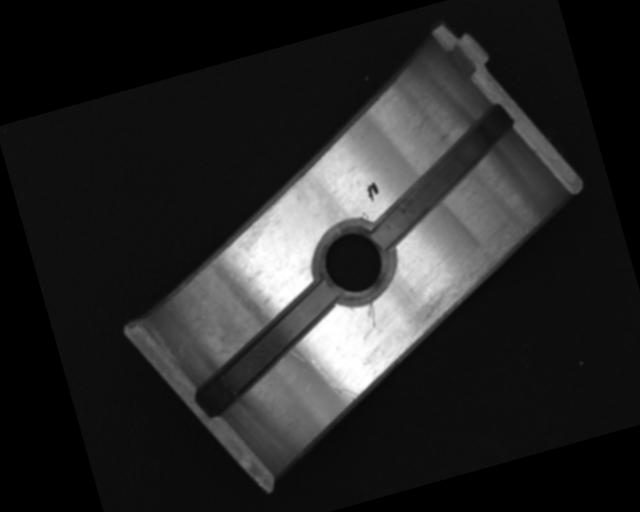blot: (364, 180, 381, 202)
gap: (350, 101, 536, 248), (174, 280, 355, 417)
hole: (303, 212, 405, 313)
nick: (308, 347, 359, 408), (365, 302, 379, 328)
scratch: (388, 220, 558, 342)
